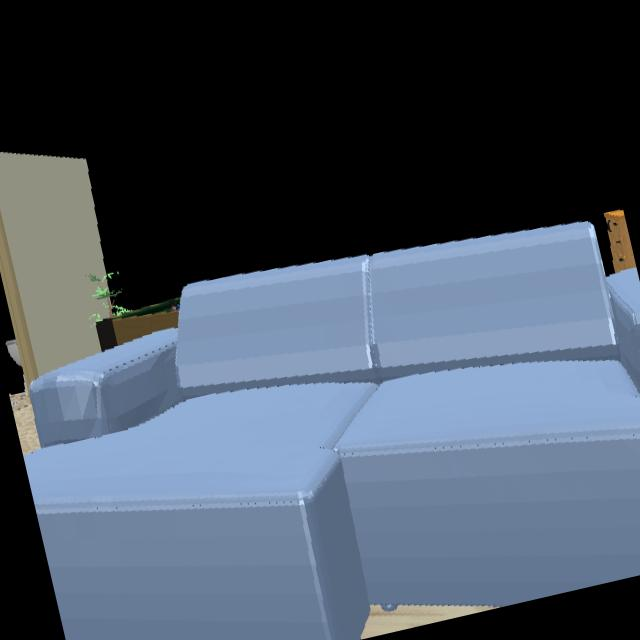sofa: (23, 222, 640, 640)
